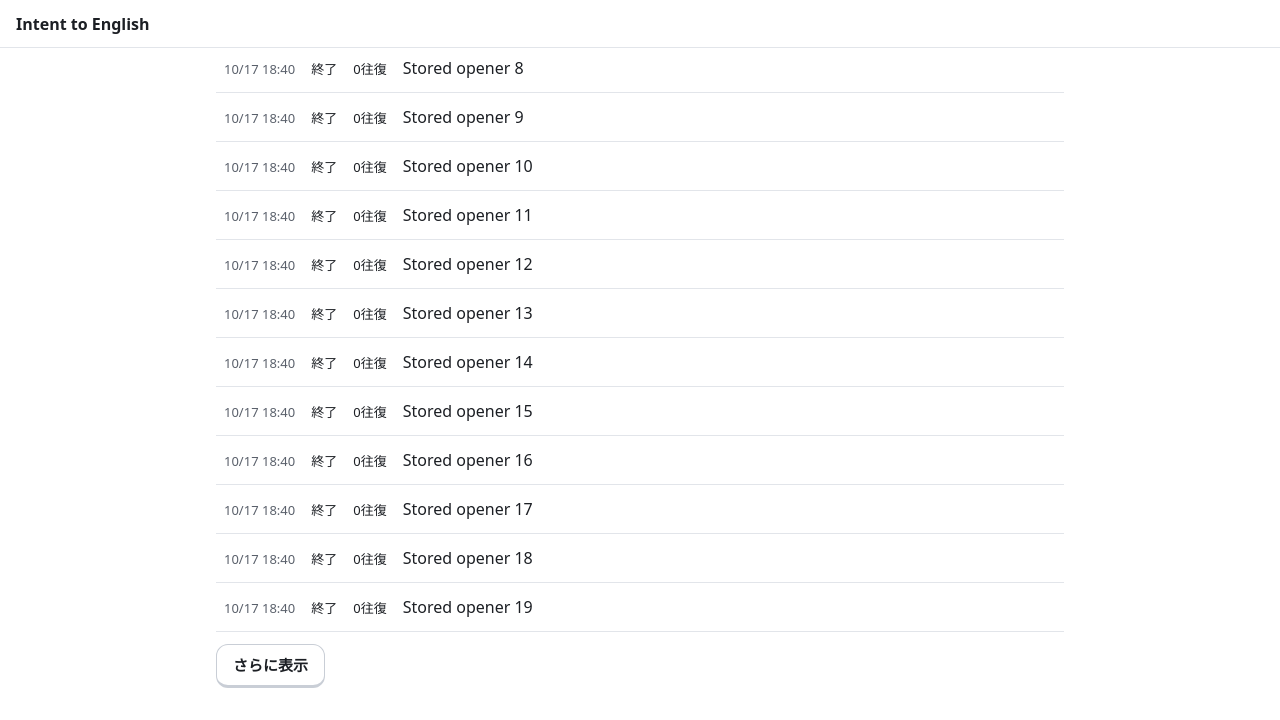
the root layout › retries the failed forward page with its stored cursor during background refetch: none
The image size is (1280, 720).
(page scrolled)
Click the button "さらに表示" at (270, 666), box [216,644,325,688]
(page scrolled)
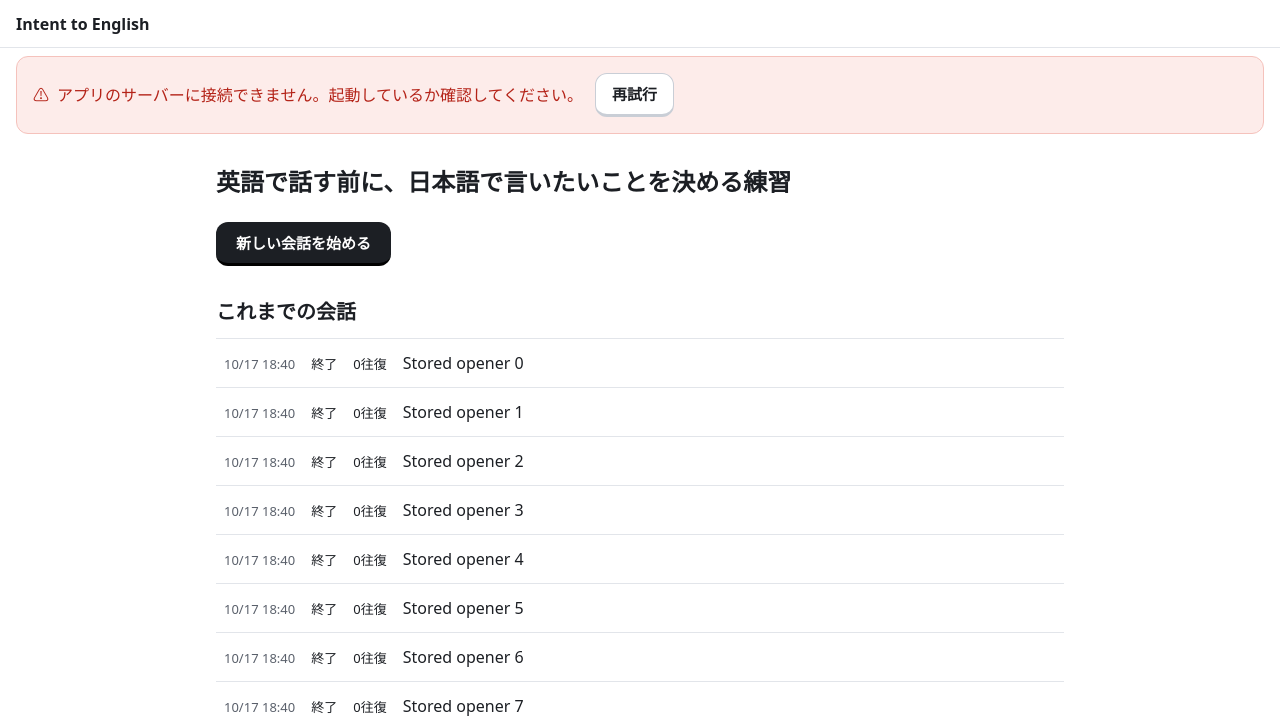
Click the button "再試行" at (634, 95), box [595,73,674,117]
(page scrolled)
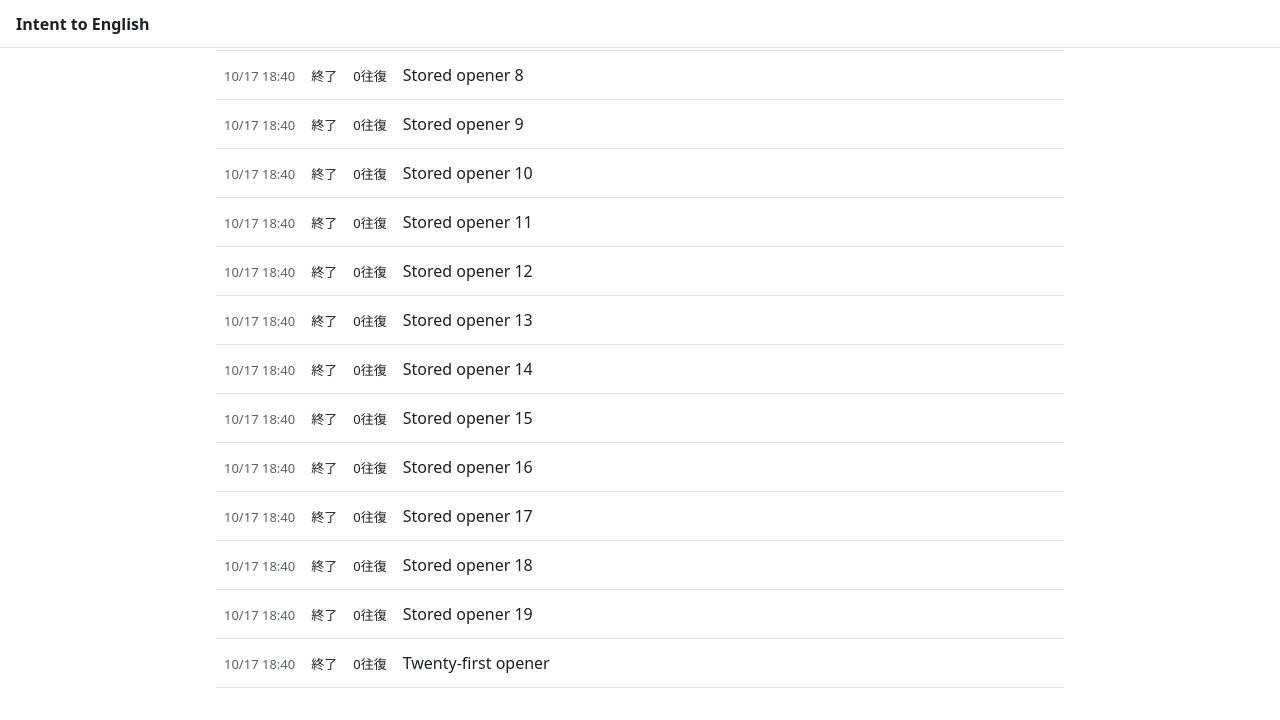
expect the text "Twenty-first opener" is shown: met, box [403,652,550,674]
expect the text "アプリのサーバーに接続できません。起動しているか確認してください。" is gone: met
